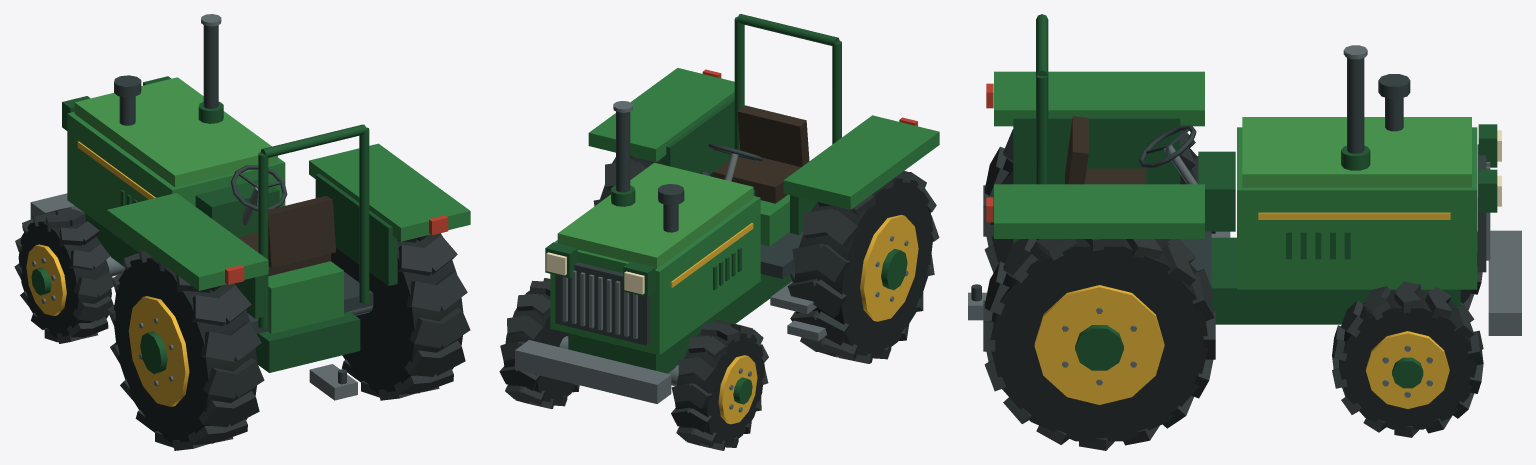
File: TractorM7.glb
3 views of the same model, side by side, from view 1: azimuth 30°, elevation 25°; view 2: azimuth 150°, elevation 25°; view 3: azimuth 270°, elevation 25° (orthographic). The views are drawn at different scales.
Visible parts, largest first — view 1: Faceted tire (×3), Rear fender (×2), Chevron tread (×18), Hood top, Engine hood, Yellow rim (×2), Main chassis, Fender inner panel (×2), Rear transmission, Seat back, Dashboard, Safety bar right (+12 smaller); view 2: Rear fender (×2), Faceted tire (×3), Engine hood, Hood top, Chevron tread (×8), Yellow rim (×2), Front bumper, Main chassis, Fender inner panel (×2), Grille backing, Seat back, Seat cushion (+13 smaller); view 3: Faceted tire (×3), Engine hood, Rear fender (×2), Hood top, Yellow rim (×2), Fender inner panel, Main chassis, Front bumper, Chevron tread (×5), Dashboard, Wheel hub (×2), Exhaust stack (+12 smaller).
Part boxes in pixels (x1,y1,x2,y2): Faceted tire (×3): (18, 220, 463, 443); Rear fender (×2): (107, 143, 470, 290); Chevron tread (×18): (188, 235, 470, 445); Hood top: (74, 77, 277, 187); Engine hood: (67, 111, 285, 251); Yellow rim (×2): (26, 244, 189, 406); Main chassis: (85, 214, 360, 372); Fender inner panel (×2): (235, 174, 397, 318); Rear transmission: (268, 261, 343, 333); Seat back: (268, 196, 335, 267); Dashboard: (195, 180, 279, 237); Safety bar right: (359, 127, 369, 303); Rear fender (×2): (588, 68, 939, 209); Faceted tire (×3): (503, 177, 933, 444); Engine hood: (550, 196, 760, 355); Hood top: (557, 162, 753, 268); Chevron tread (×8): (787, 208, 861, 360); Yellow rim (×2): (718, 215, 918, 424); Front bumper: (515, 340, 671, 403); Main chassis: (568, 270, 795, 373); Fender inner panel (×2): (661, 97, 816, 234); Grille backing: (555, 262, 650, 345); Seat back: (737, 105, 809, 166); Seat cushion: (713, 157, 800, 203); Faceted tire (×3): (990, 148, 1476, 441); Engine hood: (1237, 127, 1477, 289); Rear fender (×2): (994, 71, 1204, 238); Hood top: (1242, 117, 1471, 187); Yellow rim (×2): (1034, 285, 1449, 408); Fender inner panel: (1013, 116, 1180, 184); Main chassis: (1211, 237, 1460, 324); Front bumper: (1488, 230, 1521, 335); Chevron tread (×5): (1003, 239, 1214, 321); Dashboard: (1198, 151, 1235, 231); Wheel hub (×2): (1075, 325, 1423, 388); Exhaust stack: (1347, 58, 1364, 153).
Size of the model in its own units: 2.73 by 2.87 by 4.15.
